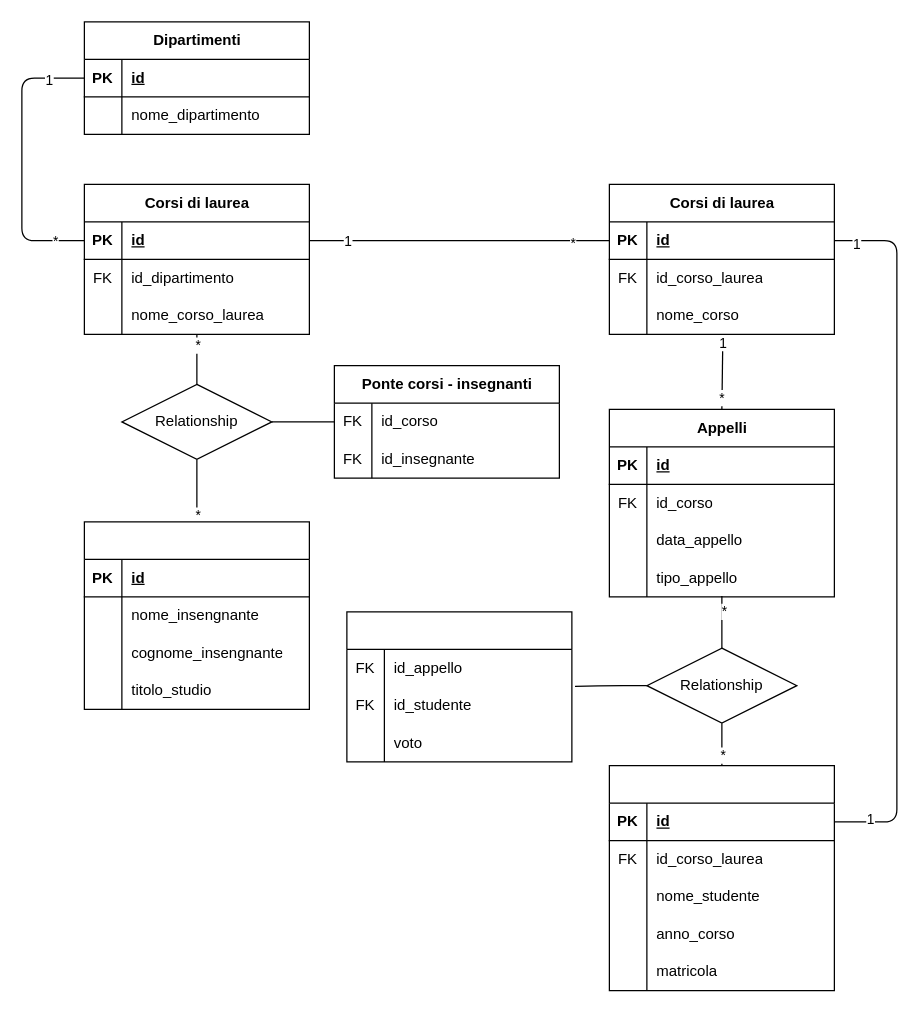
Some shapes in this 920 by 1013 pixel diagram are drawn without their labels. Each missing label, with the box of its shape:
Insegnanti: (83, 521, 309, 709)
Ponte studenti - appelli: (346, 611, 572, 762)
Studenti: (608, 764, 834, 991)
